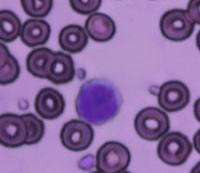L: (76, 78, 123, 126)
